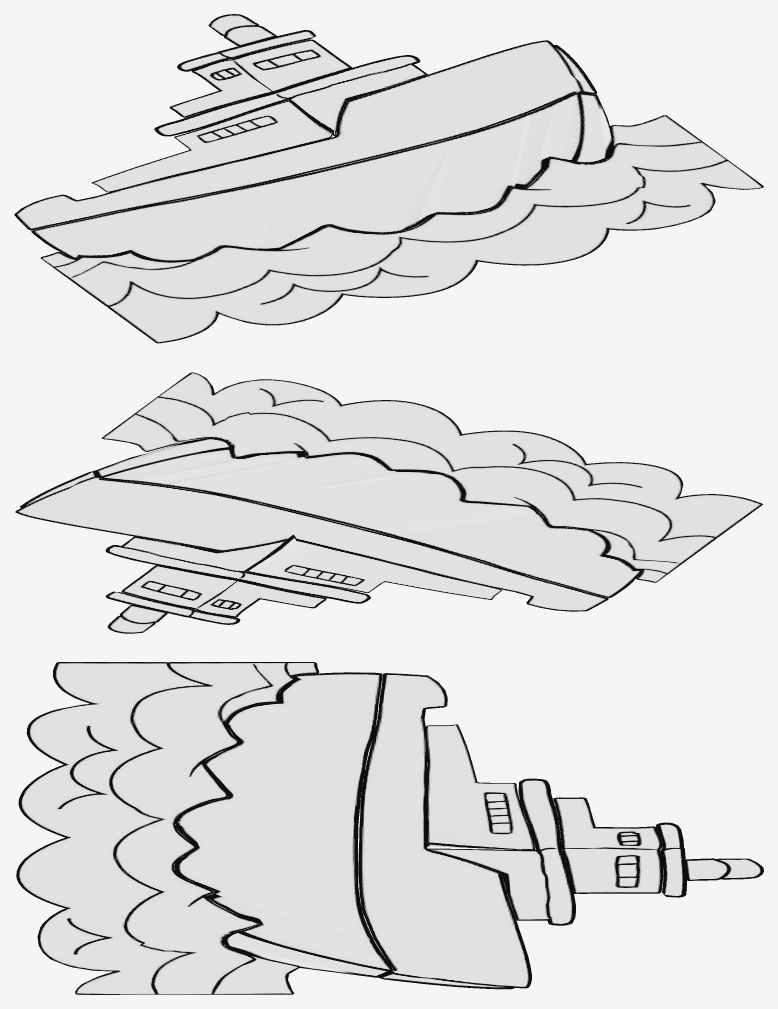
The model's file is ship2.1.fbx.
The picture shows the model from 3 angles, top to bottom: view 1: azimuth 30°, elevation 25°; view 2: azimuth 150°, elevation 25°; view 3: azimuth 270°, elevation 25°; orthographic projection. The views are drawn at different scales.
Parts seen in each view (by area): view 1: image_4, image_7, image_one1, image_2, image_9, image_3, image_8; view 2: image_4, image_7, image_one1, image_2, image_9, image_3, image_8; view 3: image_4, image_7, image_one1, image_9, image_2, image_3, image_8.
Boxes of the visible parts, <box> form: image_4: <box>40,115,763,343</box>; image_7: <box>31,92,614,261</box>; image_one1: <box>14,40,596,230</box>; image_2: <box>92,100,334,192</box>; image_9: <box>169,30,352,117</box>; image_3: <box>154,55,427,136</box>; image_8: <box>208,14,276,46</box>; image_4: <box>102,372,762,582</box>; image_7: <box>95,437,642,597</box>; image_one1: <box>15,470,608,611</box>; image_2: <box>246,534,501,599</box>; image_9: <box>105,565,326,624</box>; image_3: <box>105,536,370,603</box>; image_8: <box>107,605,167,633</box>; image_4: <box>16,662,319,994</box>; image_7: <box>174,672,393,977</box>; image_one1: <box>358,673,531,989</box>; image_9: <box>553,797,686,897</box>; image_2: <box>426,724,535,850</box>; image_3: <box>427,778,575,925</box>; image_8: <box>684,858,763,880</box>.
Bounding box in the file's own units: 16.76 × 0.1892 × 15.96.
7 materials, 7 textured.
